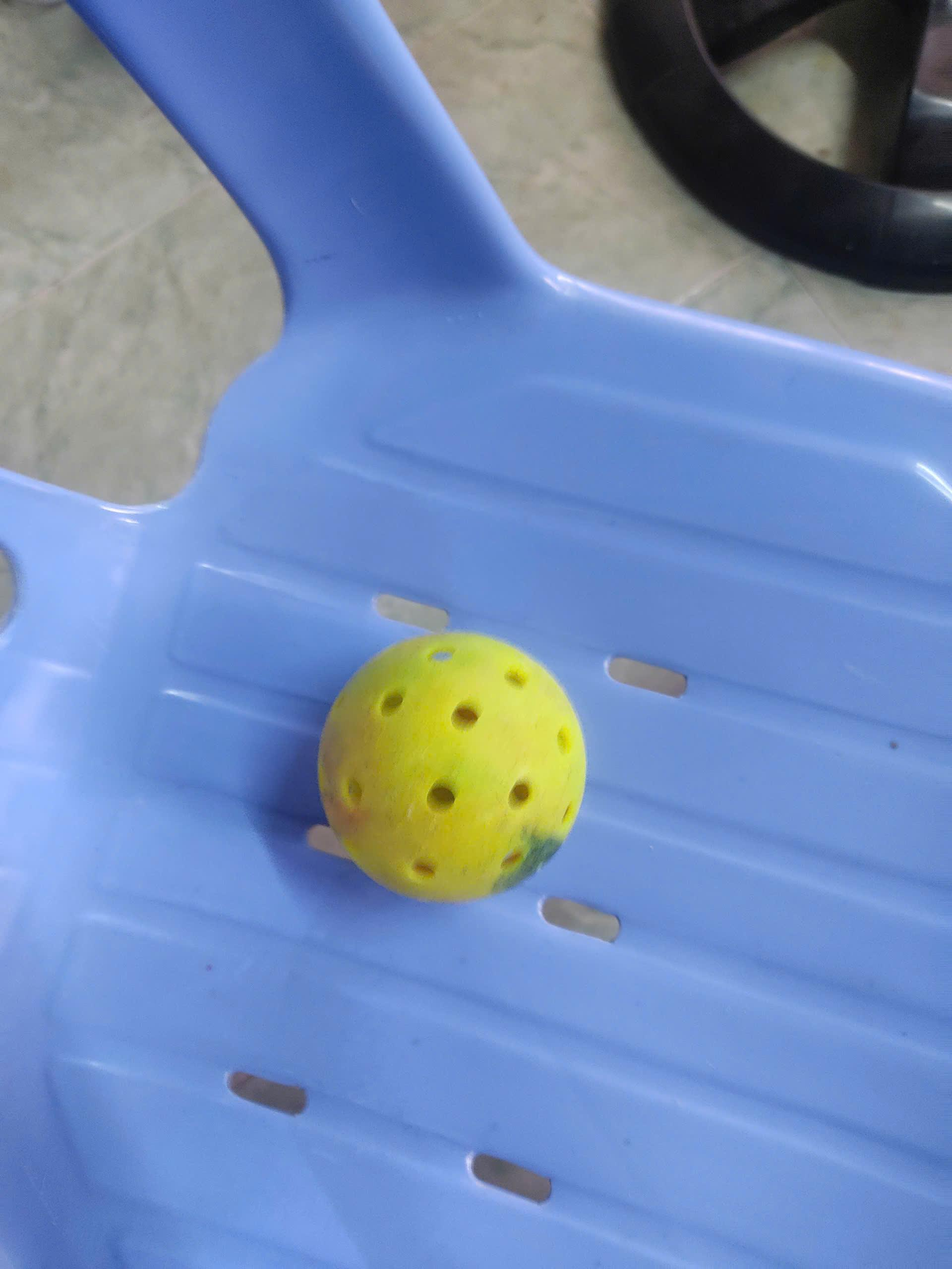ball: (305, 620, 595, 910)
